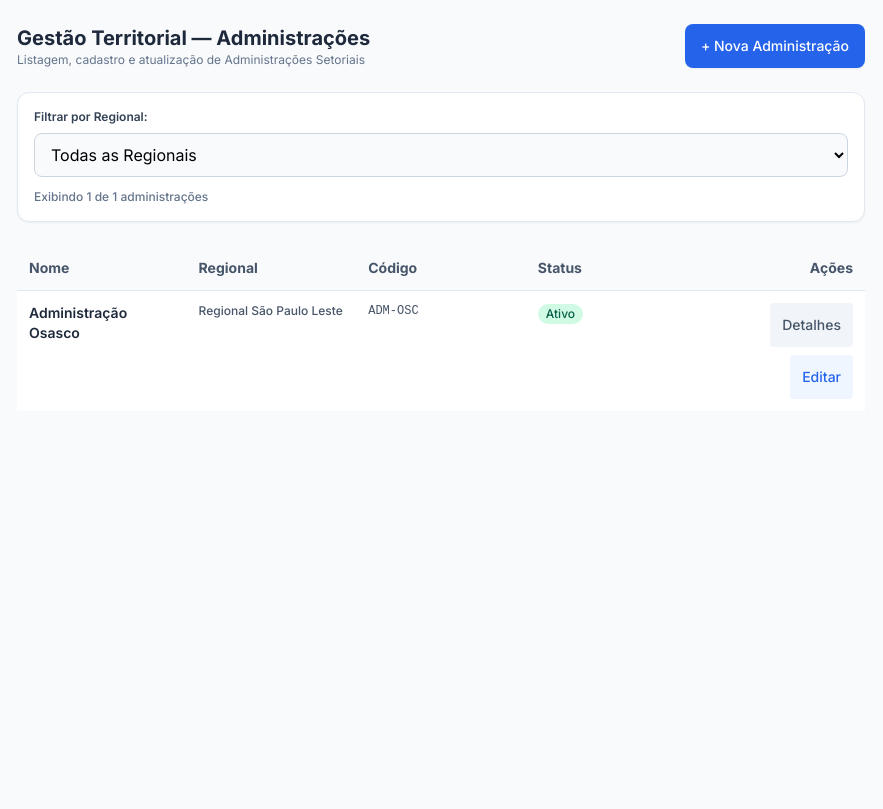
S01 — AdministracoesView (Gestão Territorial Frontend) › 8. Editar: deve carregar dados da administração e atualizar via PATCH
Click the button "Editar".
click(822, 377)  # box 790,355 -> 853,399
(page scrolled)
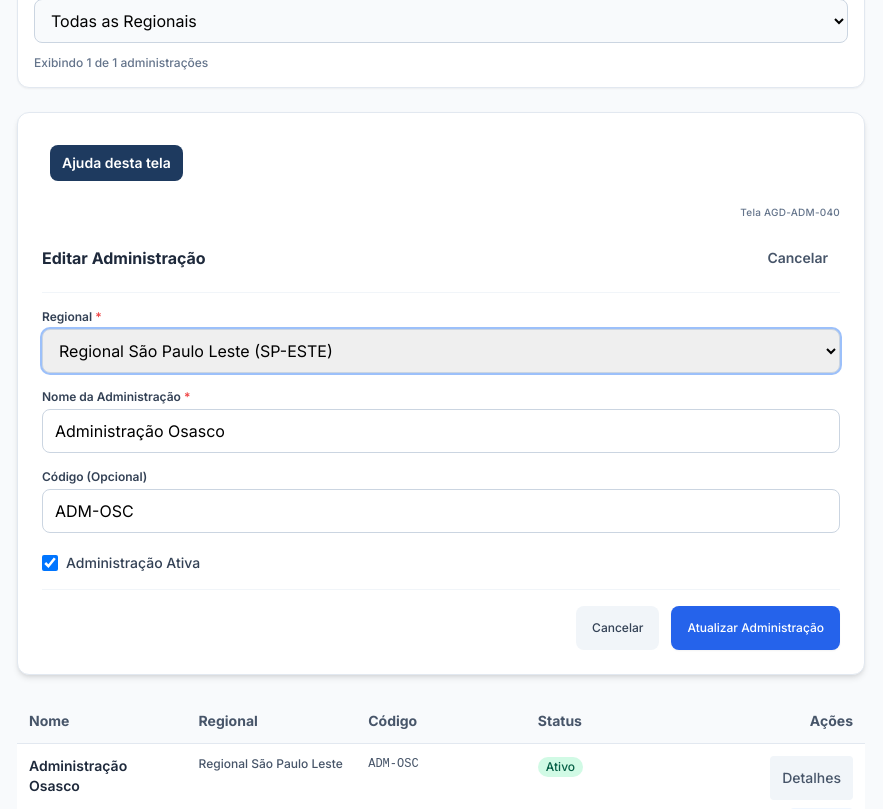
Expected: the heading "Editar Administração" is shown, 42,246 -> 206,270
Expected: the field labelled "Nome da Administração *" holds "Administração Osasco"
Replace the text in the field labelled "Nome da Administração *" with "Administração Osasco Centro" at [441, 431], box 42,409 -> 840,453
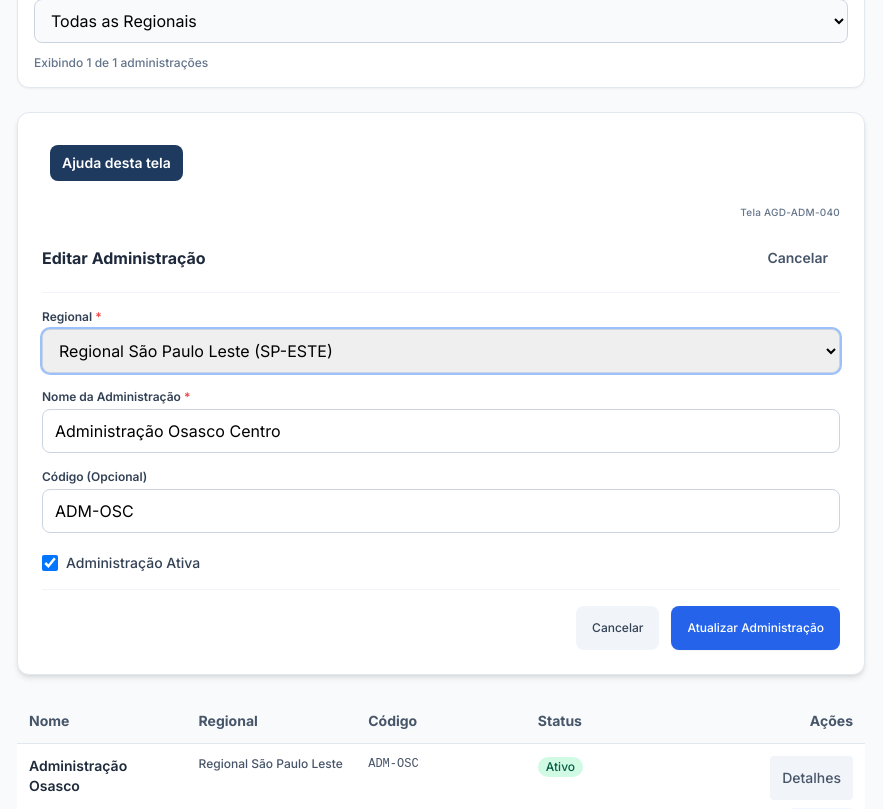
Replace the text in the field labelled "Código (Opcional)" with "ADM-OSC-CTR" at [441, 511], box 42,489 -> 840,533
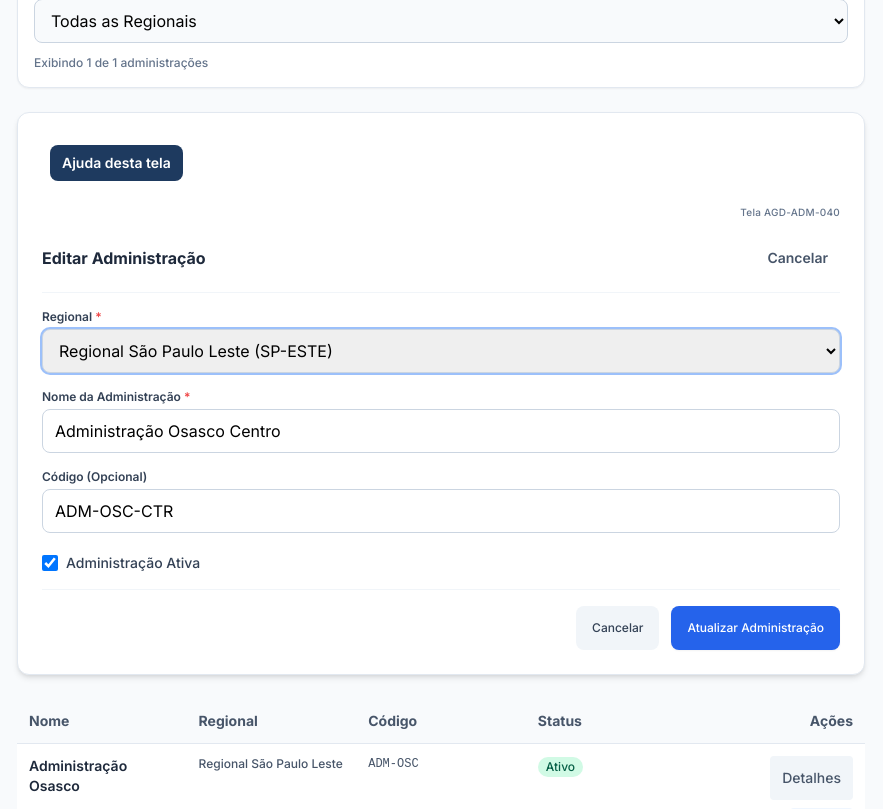
Click the checkbox labelled "Administração Ativa".
click(50, 563)  # box 42,555 -> 58,571
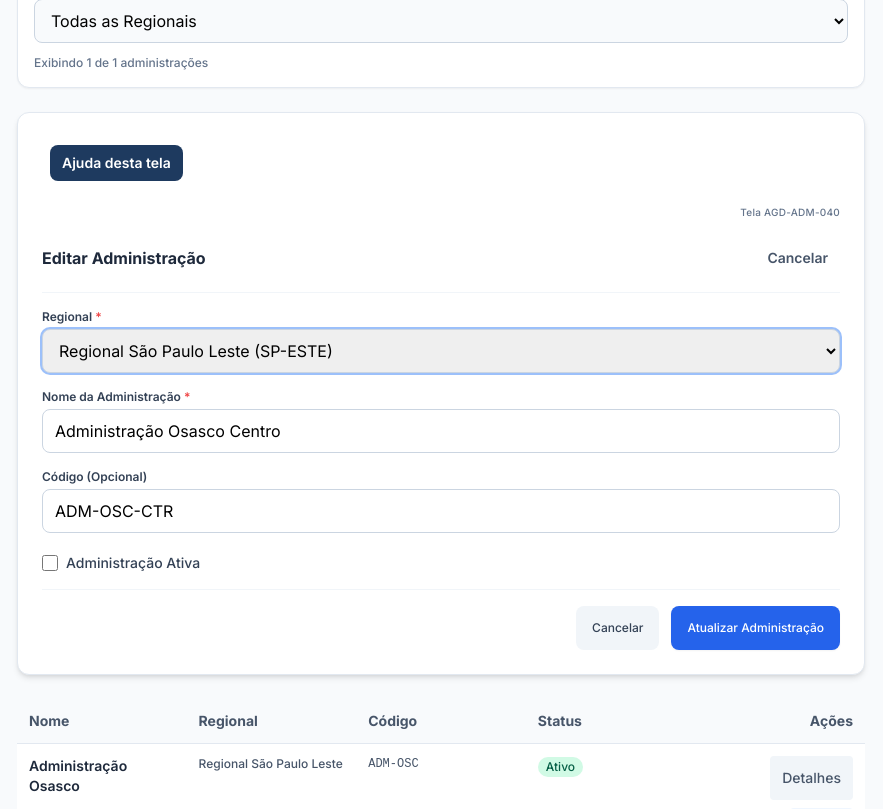
Click the button "Atualizar Administração".
click(756, 628)  # box 671,606 -> 840,650
(page scrolled)
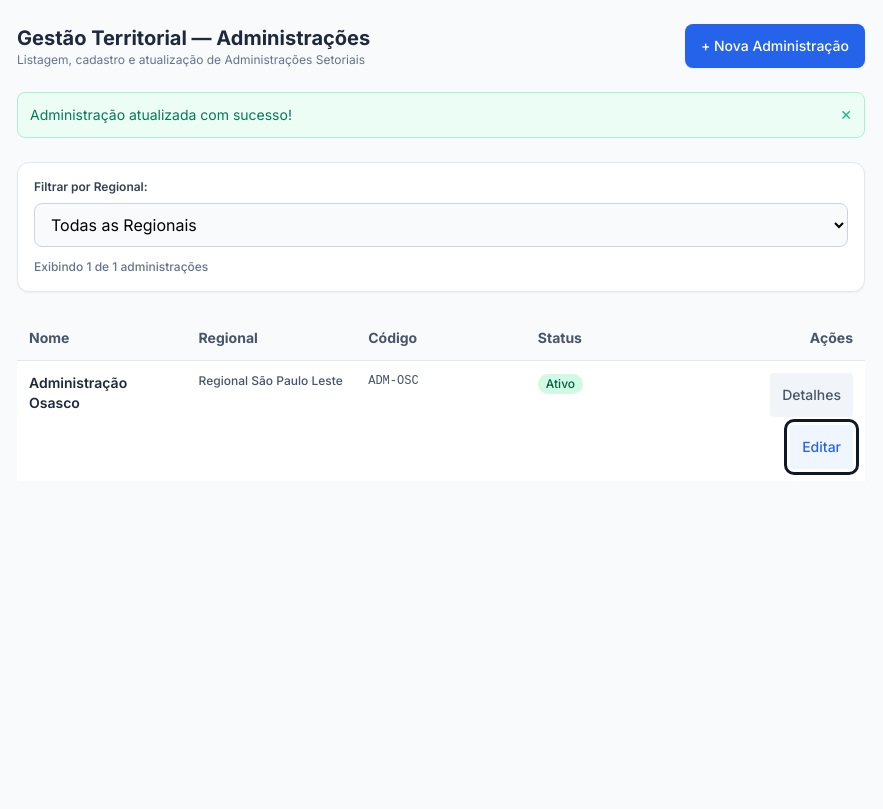
Expected: the text "Administração atualizada com sucesso!" is shown, 30,105 -> 292,125
